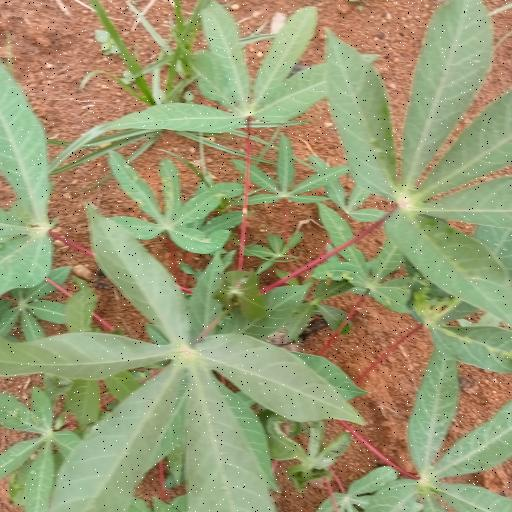Cassava_Mosaic: (9, 220, 354, 504)
